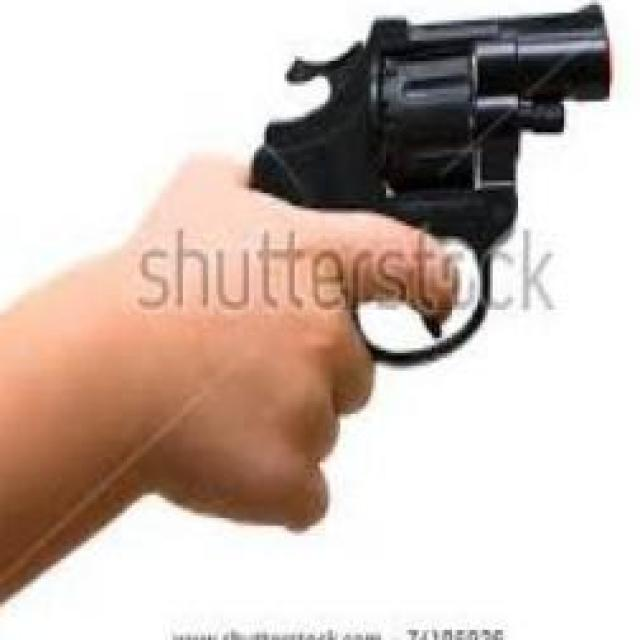pistol: (231, 0, 619, 373)
